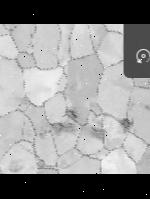good_void: (38, 120, 76, 138), (3, 153, 29, 174), (84, 124, 110, 143), (115, 116, 136, 138), (65, 107, 83, 121), (141, 101, 150, 119)
